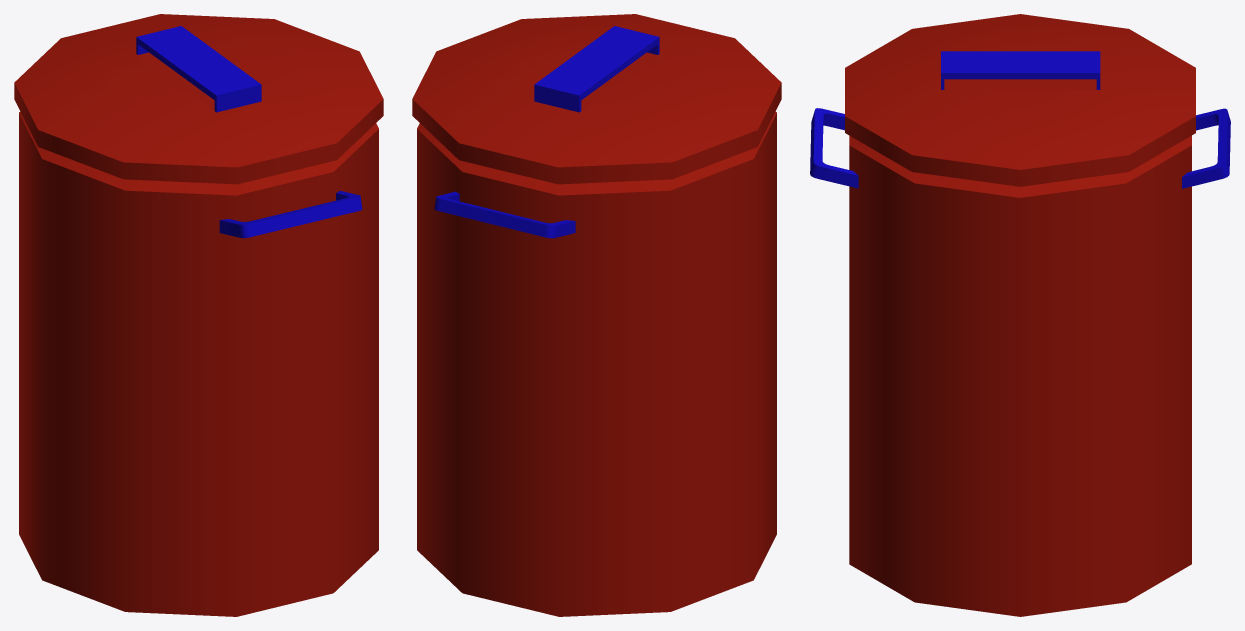
Rendered from P_PanierALinge_Colored_Unbreakable.fbx.
3 views of the same model, side by side, from view 1: azimuth 30°, elevation 25°; view 2: azimuth 150°, elevation 25°; view 3: azimuth 270°, elevation 25° (orthographic).
Visible parts, largest first — view 1: P_PanierALinge_Colored_Unbreakable; view 2: P_PanierALinge_Colored_Unbreakable; view 3: P_PanierALinge_Colored_Unbreakable.
Part boxes in pixels (left/top/right/bottom): P_PanierALinge_Colored_Unbreakable: left=14, top=14, right=383, bottom=616; P_PanierALinge_Colored_Unbreakable: left=412, top=14, right=781, bottom=616; P_PanierALinge_Colored_Unbreakable: left=810, top=14, right=1230, bottom=616.
Size of the model in its own units: 42.57 by 60.9 by 48.52.
